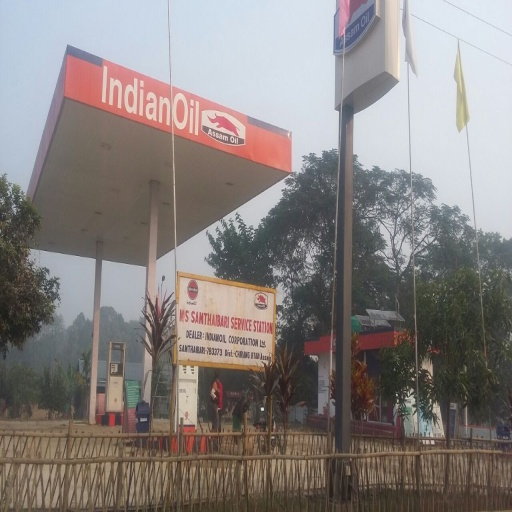roof: (20, 41, 299, 275)
